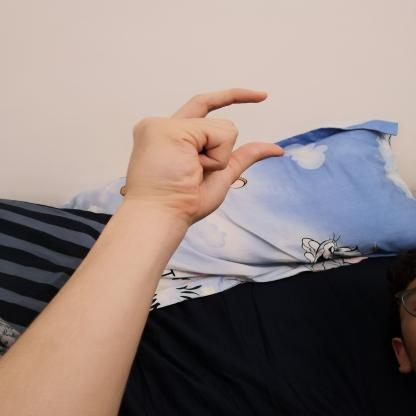DELL: (114, 82, 297, 226)
